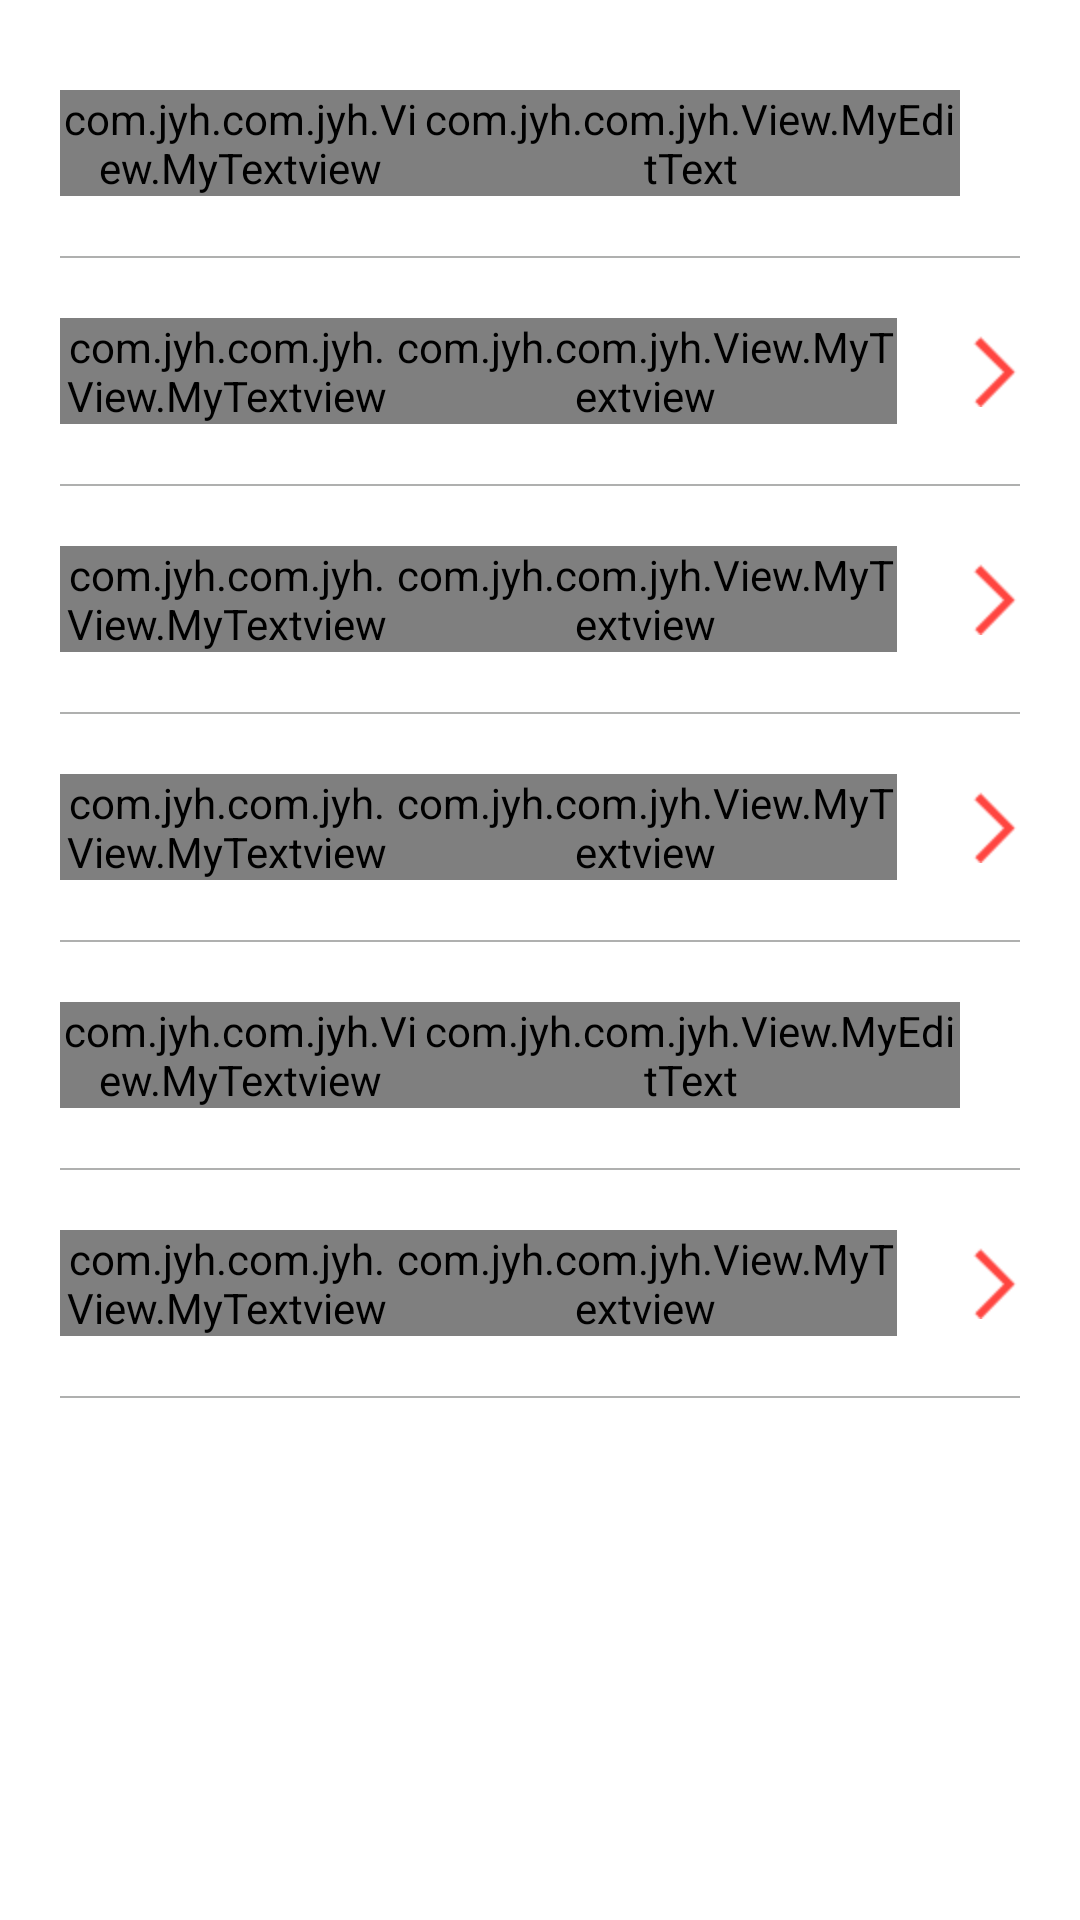

Where to tap for icons on this 1080×1920 app screen, as point (x, y):
personal data right: point (994, 372), point (994, 600), point (994, 828), point (994, 1284)
